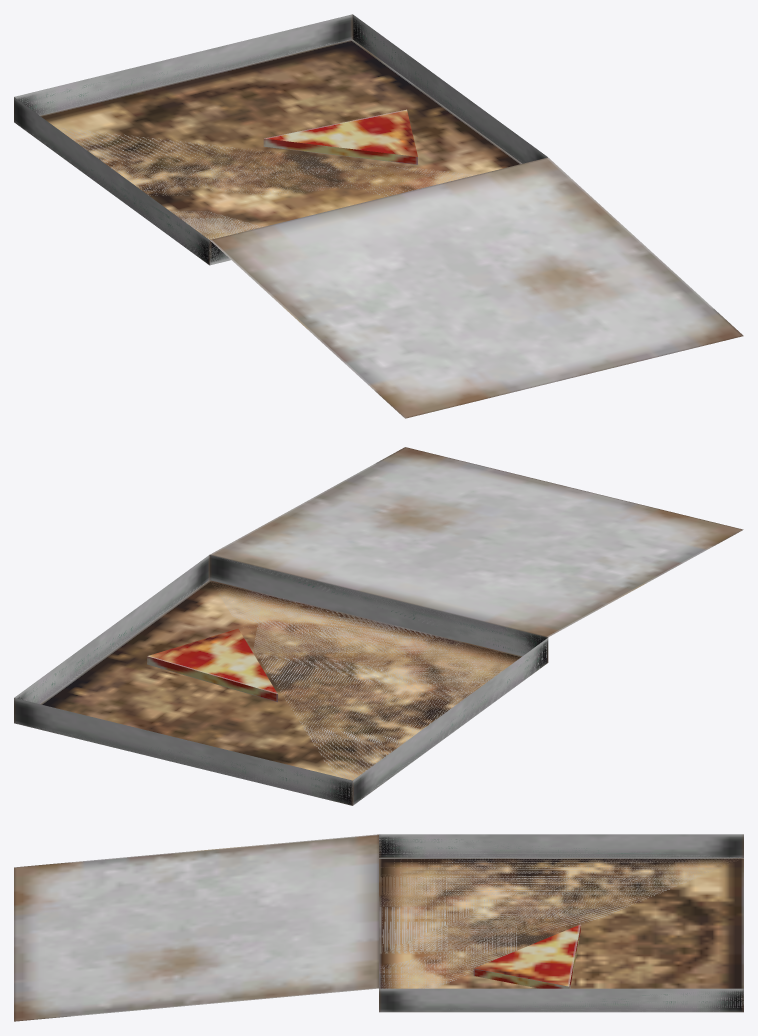
Rendered from pizzabox_open.fbx.
3 views of the same model, one above another, from view 1: azimuth 30°, elevation 25°; view 2: azimuth 150°, elevation 25°; view 3: azimuth 270°, elevation 25° (orthographic). The views are drawn at different scales.
Parts seen in each view (by area): view 1: mesh_0; view 2: mesh_0; view 3: mesh_0.
Part boxes in pixels (bbox=[...]): mesh_0: bbox=[14, 14, 743, 418]; mesh_0: bbox=[14, 447, 743, 805]; mesh_0: bbox=[14, 834, 743, 1021].
Bounding box in the file's own units: 50 × 5 × 100.
Materials: 1 (1 with a texture image).
